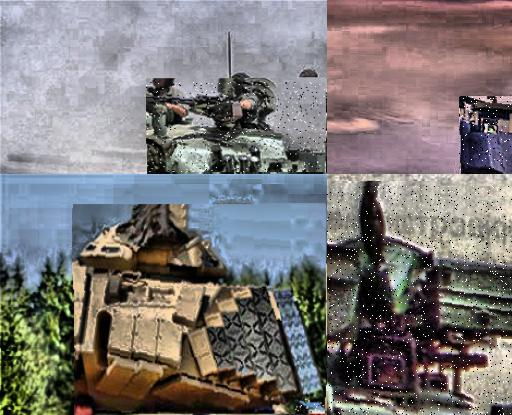tanks: (74, 211, 320, 415), (328, 187, 512, 415), (148, 84, 326, 174), (461, 98, 512, 175), (294, 399, 327, 415)
